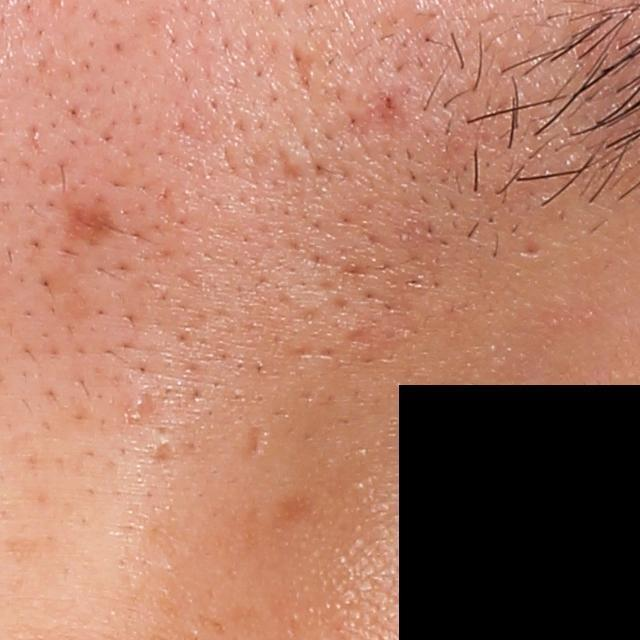atrophic_scar: (282, 38, 322, 102), (244, 423, 269, 459), (519, 236, 551, 262)
